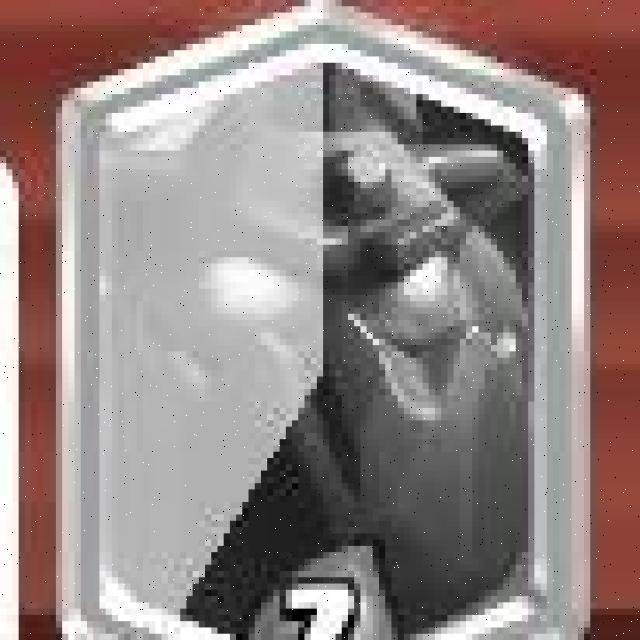Lava_Hound: (55, 0, 594, 640)
